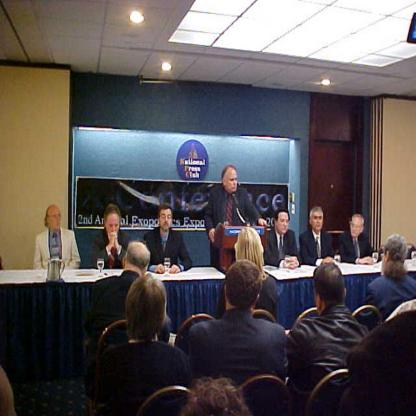face: (277, 213, 290, 235), (108, 215, 120, 238), (227, 171, 239, 192), (161, 211, 173, 231), (51, 211, 62, 231), (351, 218, 361, 239), (313, 212, 324, 231)
